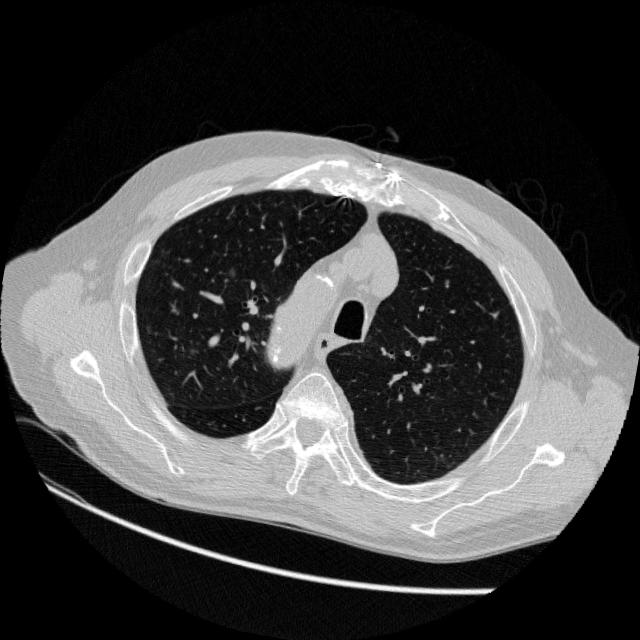nodule: (220, 259, 246, 284)
